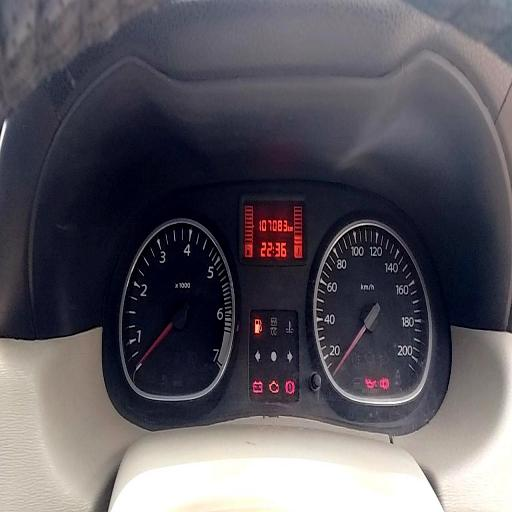brake_system_fault: (285, 381, 295, 394)
check_engine: (269, 380, 279, 394)
oil: (365, 379, 377, 388)
tachometer: (119, 217, 235, 396)
vehicle_charging: (253, 380, 263, 393)
